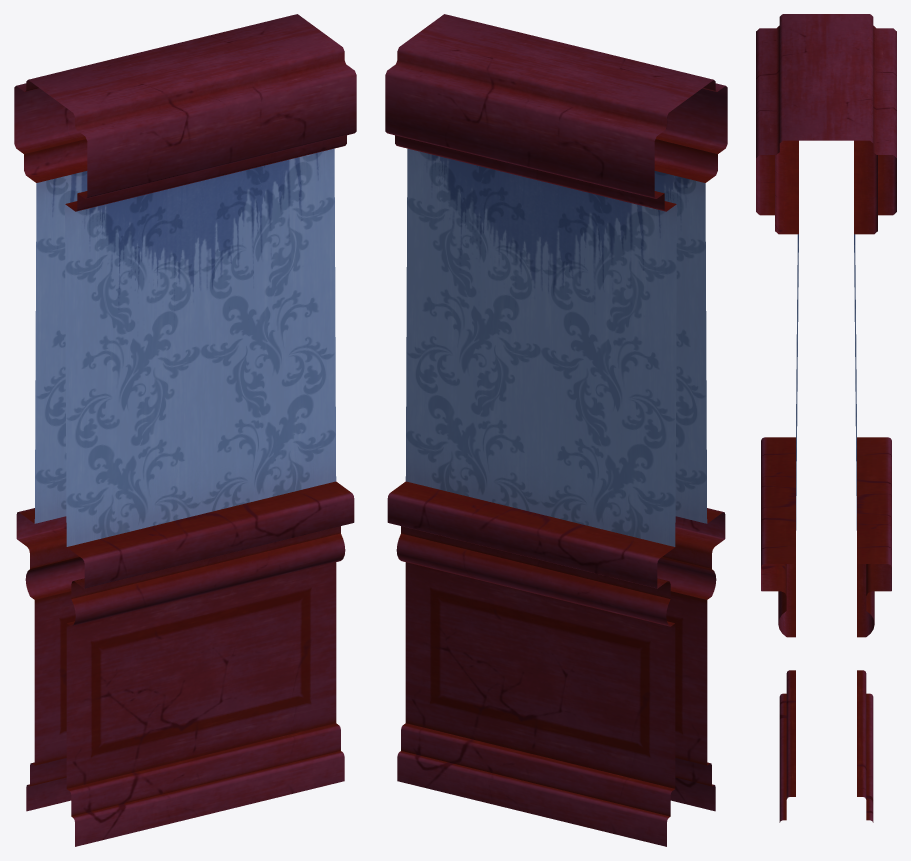
File: Corridor_Wall_Straight.fbx
3 renders of one model, left to right at view 1: azimuth 30°, elevation 25°; view 2: azimuth 150°, elevation 25°; view 3: azimuth 270°, elevation 25°, orthographic. The views are drawn at different scales.
Parts seen in each view (by area): view 1: Wall_Straight_1; view 2: Wall_Straight_1; view 3: Wall_Straight_1.
Part boxes in pixels (x1=…): Wall_Straight_1: x1=14, y1=14, x2=356, y2=846; Wall_Straight_1: x1=385, y1=14, x2=727, y2=846; Wall_Straight_1: x1=756, y1=14, x2=896, y2=822.
Size of the model in its own units: 1 by 2.6 by 0.4693.
